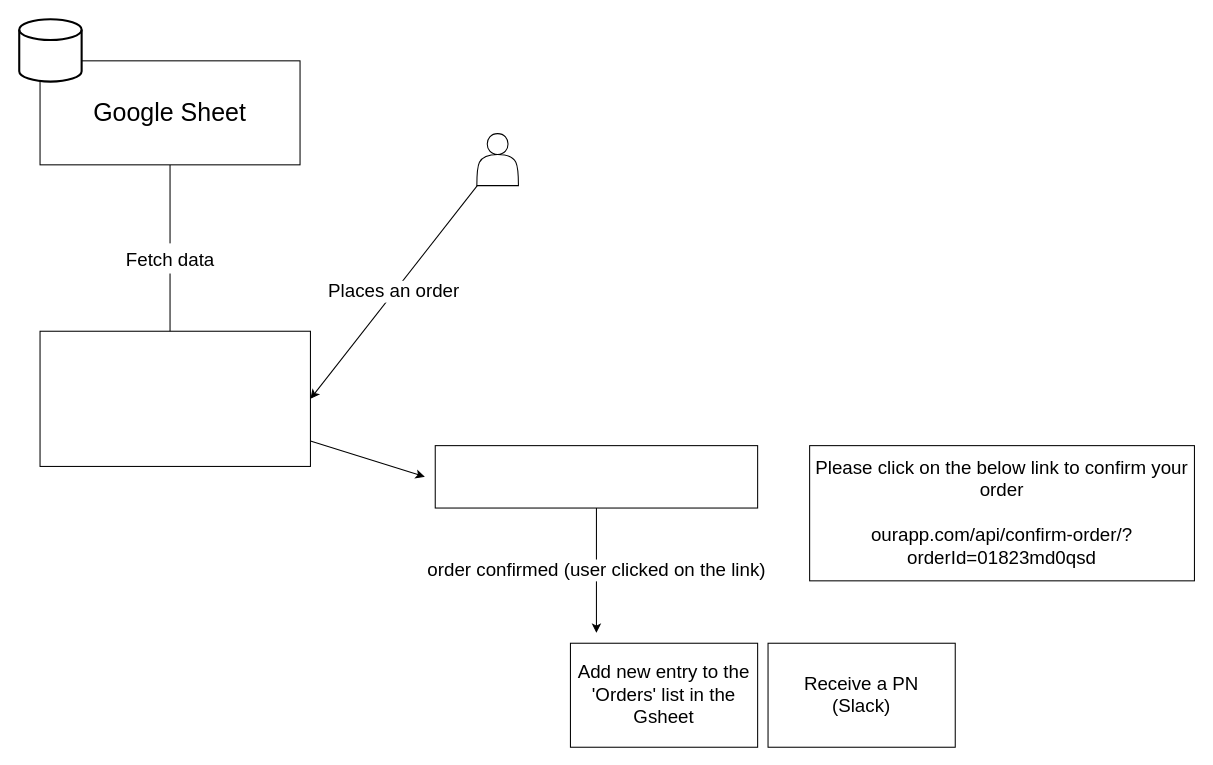
The diagram is 1213 pixels wide and 765 high, and some of its shapes have lost their labels. The centre of each missing label's shape, as x and y in pixels:
"NextJS App (e-commerce store)" belongs at [174,398].
"Send confirmation link to user's mail acc" belongs at [596,476].
